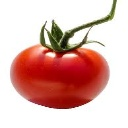tomato: (10, 43, 110, 109)
